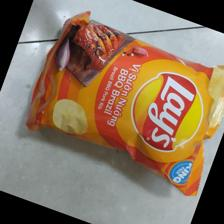Lays: (29, 10, 221, 199)
